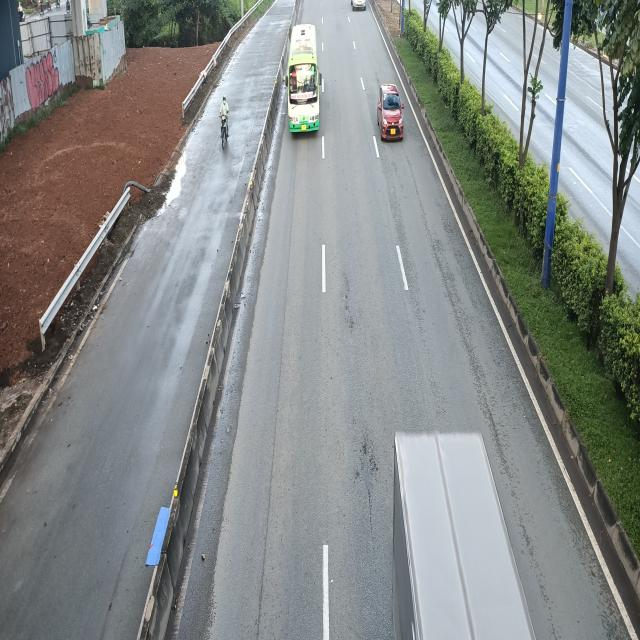car: (378, 83, 406, 142)
coach: (282, 23, 320, 135)
